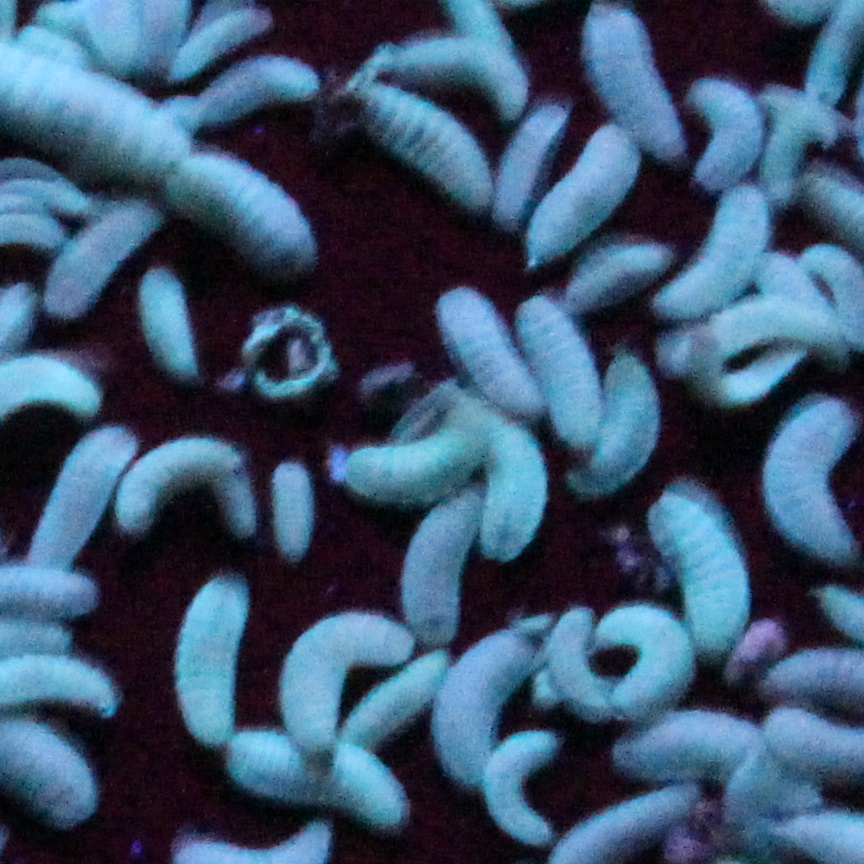larve: (425, 628, 542, 780), (180, 150, 315, 275), (355, 87, 488, 203), (286, 603, 392, 744), (27, 428, 134, 565), (766, 406, 864, 552), (648, 501, 750, 639), (585, 4, 679, 153), (55, 193, 160, 322), (530, 134, 640, 256), (523, 301, 608, 445), (176, 567, 244, 746), (670, 194, 774, 311), (119, 435, 244, 527), (438, 291, 531, 412), (472, 419, 548, 561), (495, 729, 575, 852), (663, 314, 852, 366), (594, 617, 698, 708), (406, 501, 479, 629), (616, 721, 767, 781), (355, 423, 476, 496), (493, 103, 568, 220), (381, 44, 526, 102), (133, 265, 203, 384), (599, 361, 669, 479), (684, 79, 759, 188), (571, 240, 673, 313), (677, 341, 805, 399), (186, 66, 317, 108), (544, 623, 604, 703), (238, 740, 327, 790), (276, 456, 310, 558)
